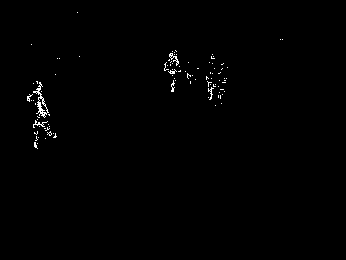person: (26, 79, 61, 154), (164, 50, 180, 93), (205, 53, 215, 102), (218, 63, 230, 101)
